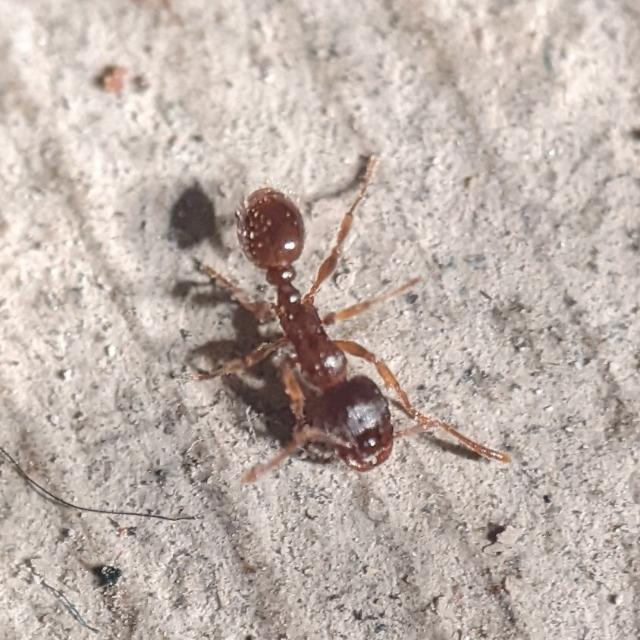Myrmica: (189, 102, 455, 516)
